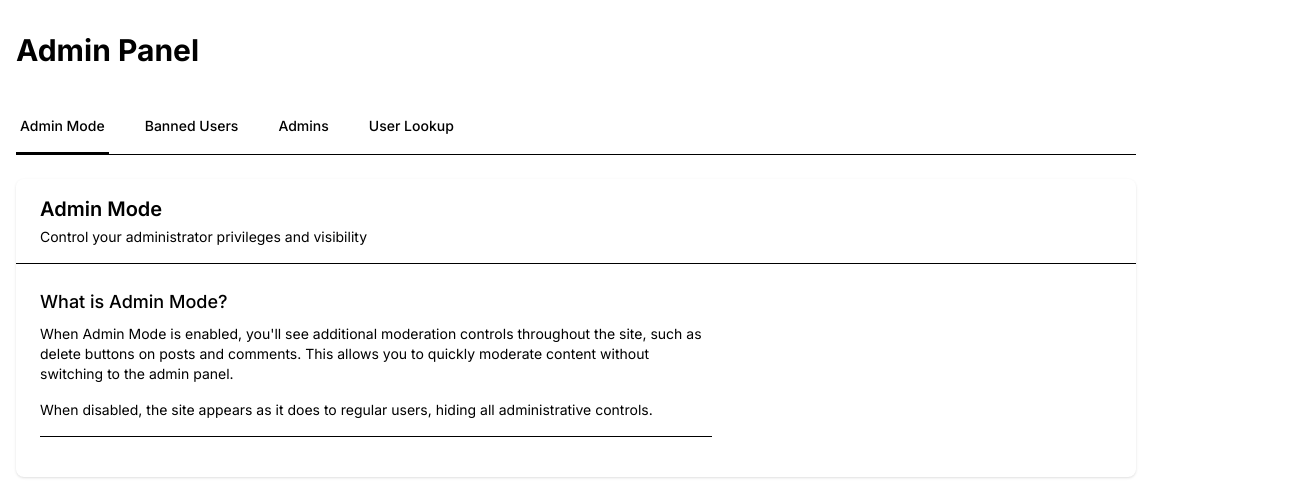
Test: AdminPage › Banned Users Tab › unbans a user when unban button is clicked and confirmed
# Click on Banned Users tab
Step 1. Click the button "Banned Users" → x=192, y=127, box [141, 100, 242, 154]
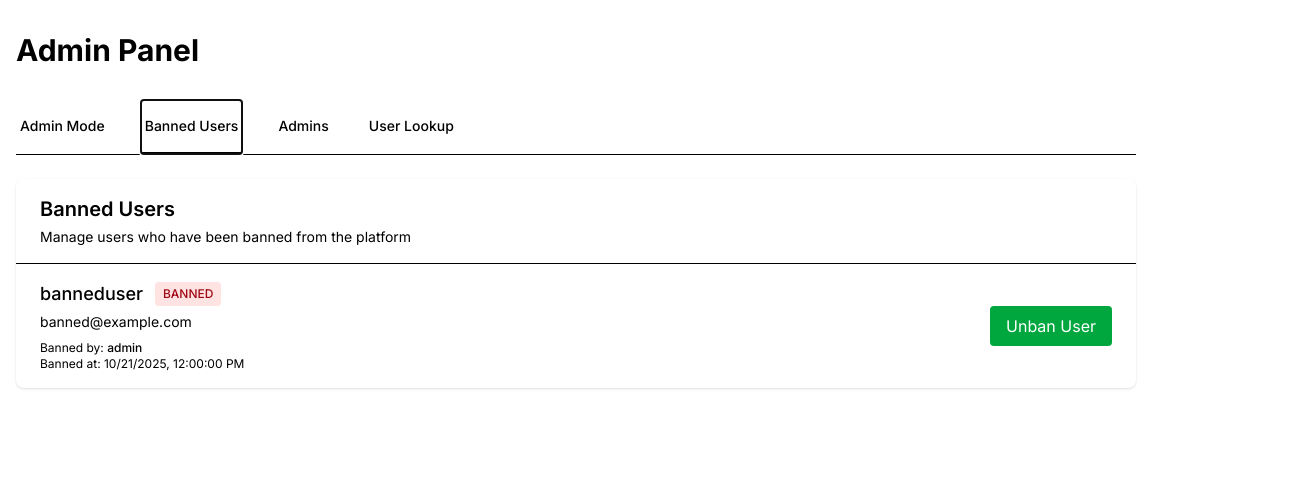
Check: the heading "banneduser" is shown, box [40, 280, 143, 308]
Step 2. Click the button "Unban User" → x=1051, y=326, box [990, 306, 1112, 346]
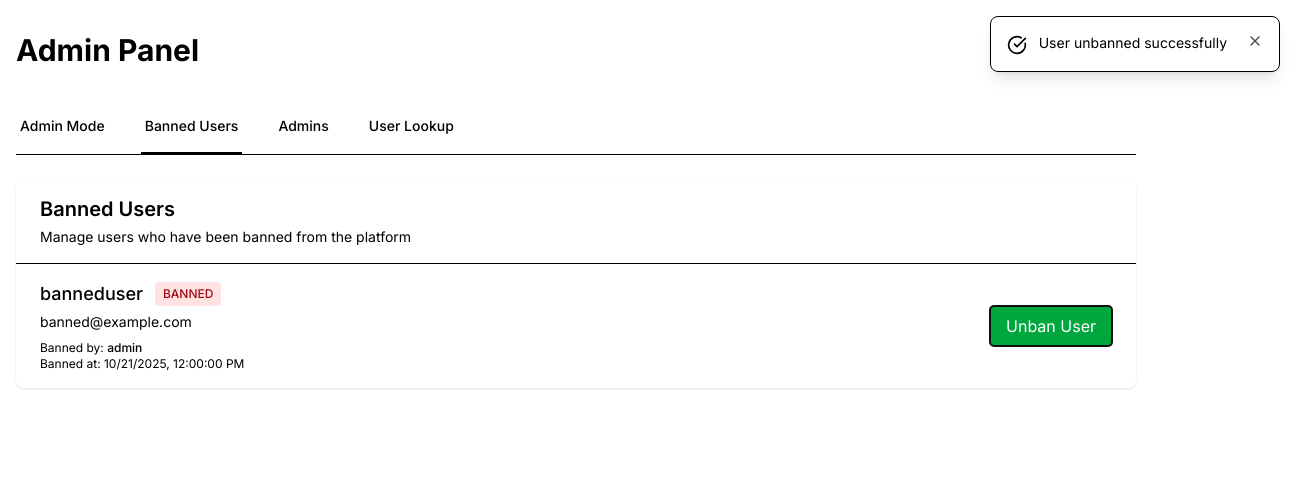
Check: the text "User unbanned successfully" is shown, box [1039, 33, 1227, 53]
